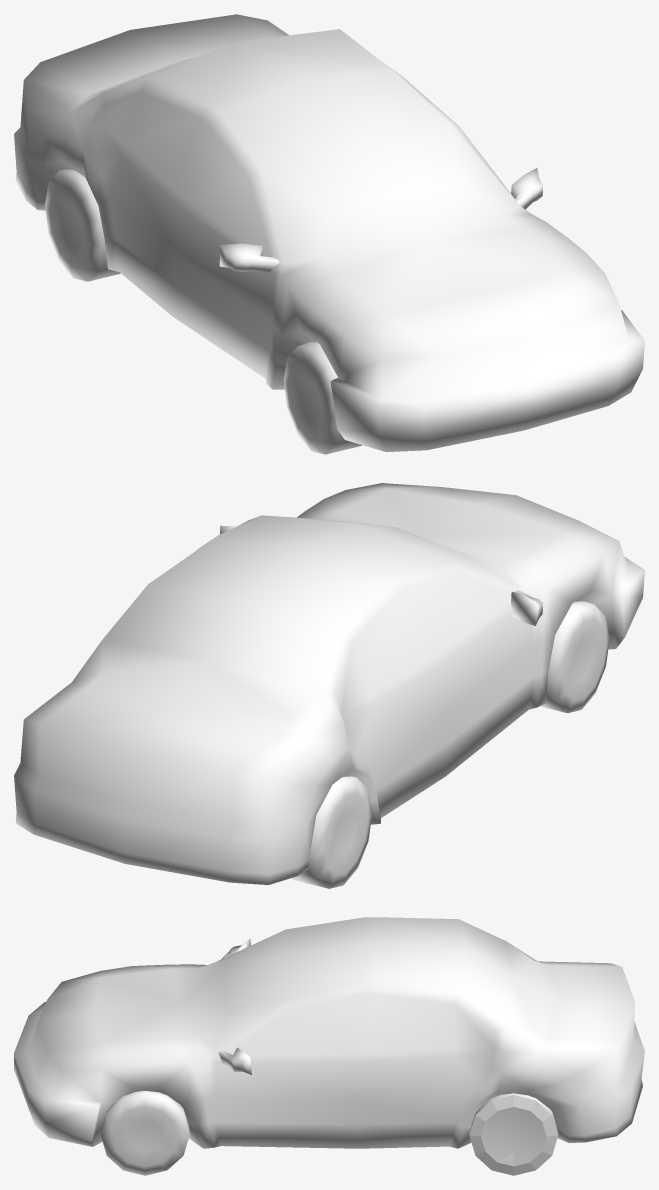
Rendered from carGeneric.glb.
3 views of the same model, one above another, from view 1: azimuth 30°, elevation 25°; view 2: azimuth 150°, elevation 25°; view 3: azimuth 270°, elevation 25° (orthographic). The views are drawn at different scales.
Parts seen in each view (by area): view 1: car_Generic; view 2: car_Generic; view 3: car_Generic.
Part boxes in pixels (box(x1,y1,x2,y2)): car_Generic: box(14, 14, 644, 454); car_Generic: box(14, 483, 644, 888); car_Generic: box(14, 917, 644, 1175).
Size of the model in its own units: 2.23 by 1.56 by 4.95.
2 materials, 2 textured.
